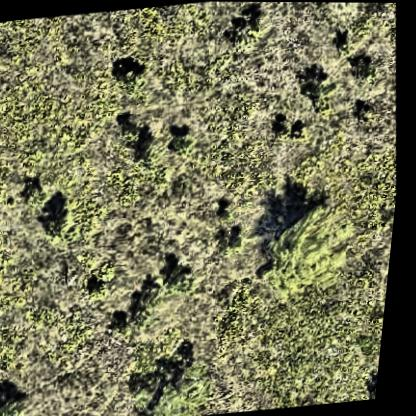tree-top: (261, 209, 356, 293), (145, 374, 222, 416), (218, 1, 267, 47), (297, 62, 337, 114), (133, 280, 168, 326), (131, 135, 164, 170), (43, 209, 80, 240), (166, 263, 200, 296), (111, 59, 146, 91), (346, 52, 379, 85), (22, 174, 53, 206), (0, 276, 18, 315), (173, 133, 201, 157), (0, 396, 30, 416), (370, 368, 386, 398)
